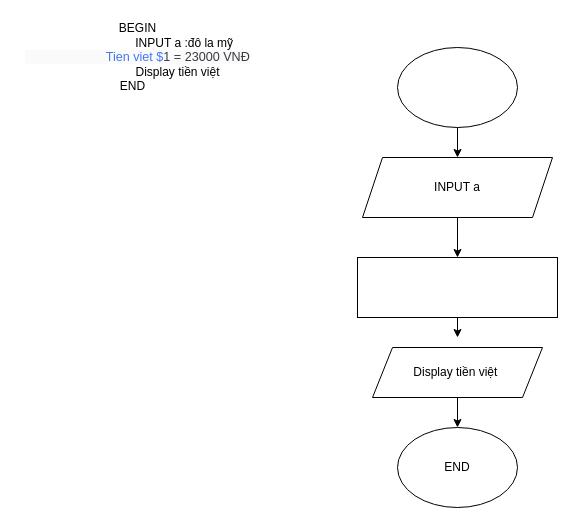
This 575x525 diagram has some shape labels left out. The shapes that lost their labels are listed below. From the top down, each one's centre as x and y in pixels, then its label:
At (x=457, y=87): "BEGIN".
At (x=457, y=287): "Tien viet $ 1 = 23000 VNĐ".
